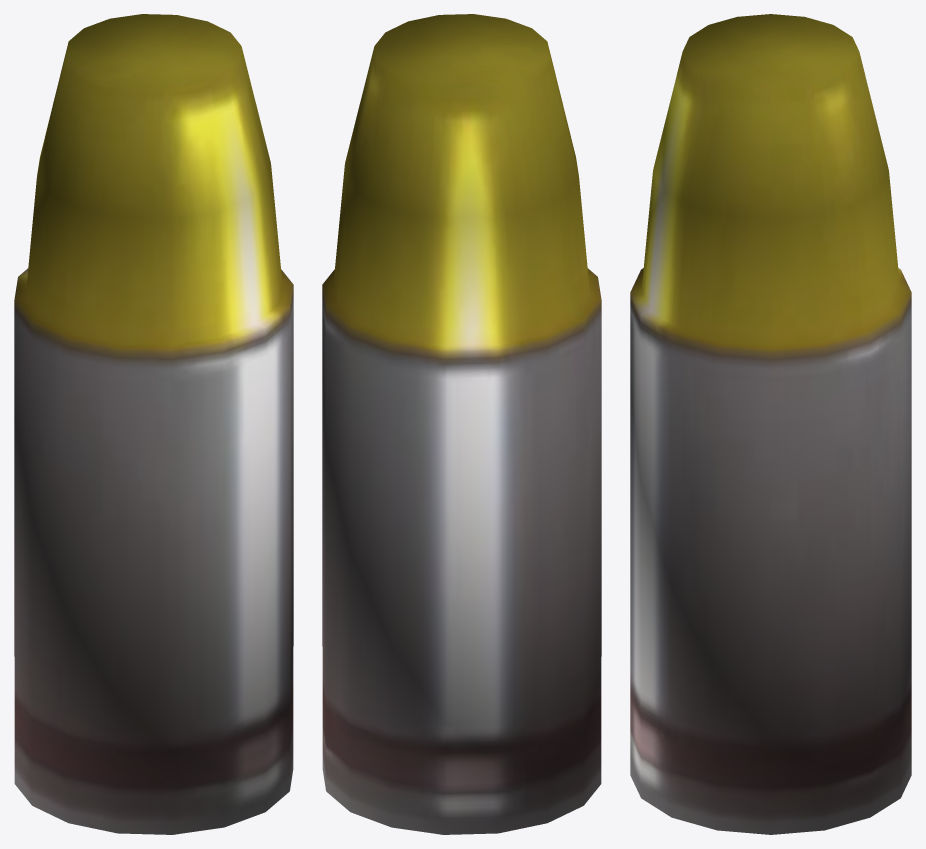
Rendered from bullet_light.glb.
3 views of the same model, side by side, from view 1: azimuth 30°, elevation 25°; view 2: azimuth 150°, elevation 25°; view 3: azimuth 270°, elevation 25° (orthographic).
Parts seen in each view (by area): view 1: bulletPEW; view 2: bulletPEW; view 3: bulletPEW.
Part boxes in pixels (x1=…): bulletPEW: x1=14, y1=14, x2=293, y2=834; bulletPEW: x1=322, y1=14, x2=601, y2=834; bulletPEW: x1=630, y1=14, x2=911, y2=834.
Bounding box in the file's own units: 0.00749 × 0.0213 × 0.00749.
1 material, 1 textured.
